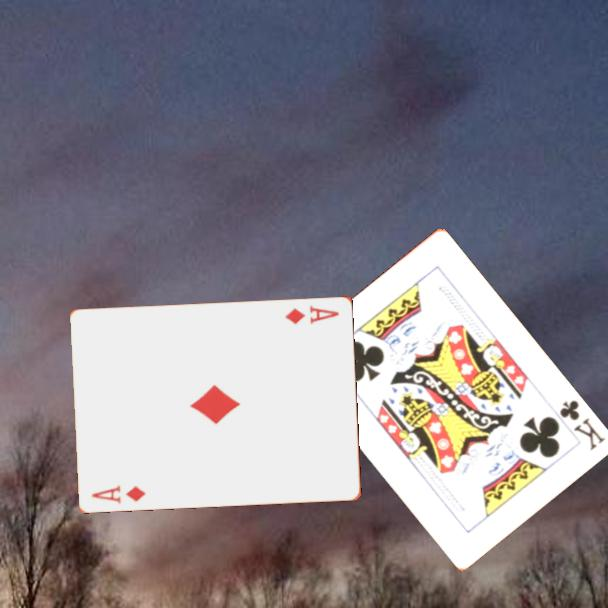c13: (556, 396, 607, 453)
d01: (88, 481, 149, 506), (282, 302, 342, 327)
